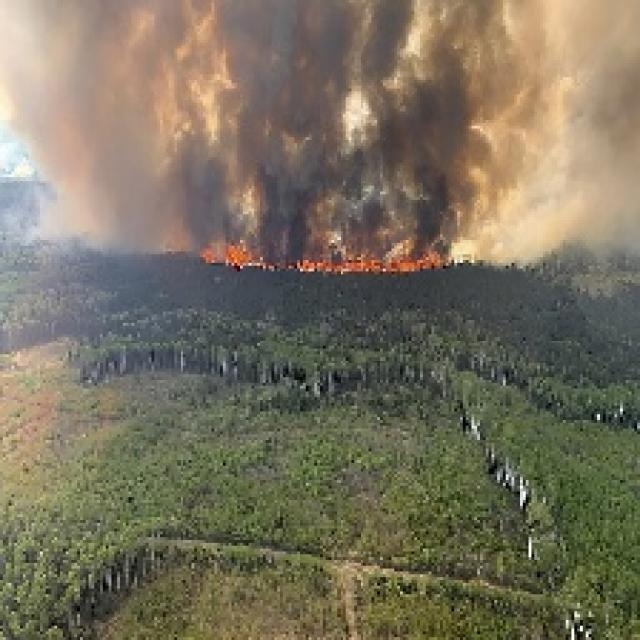Smoke: (6, 0, 523, 256)
